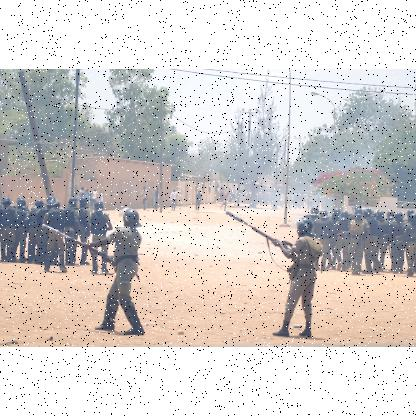gun: (40, 222, 116, 266)
